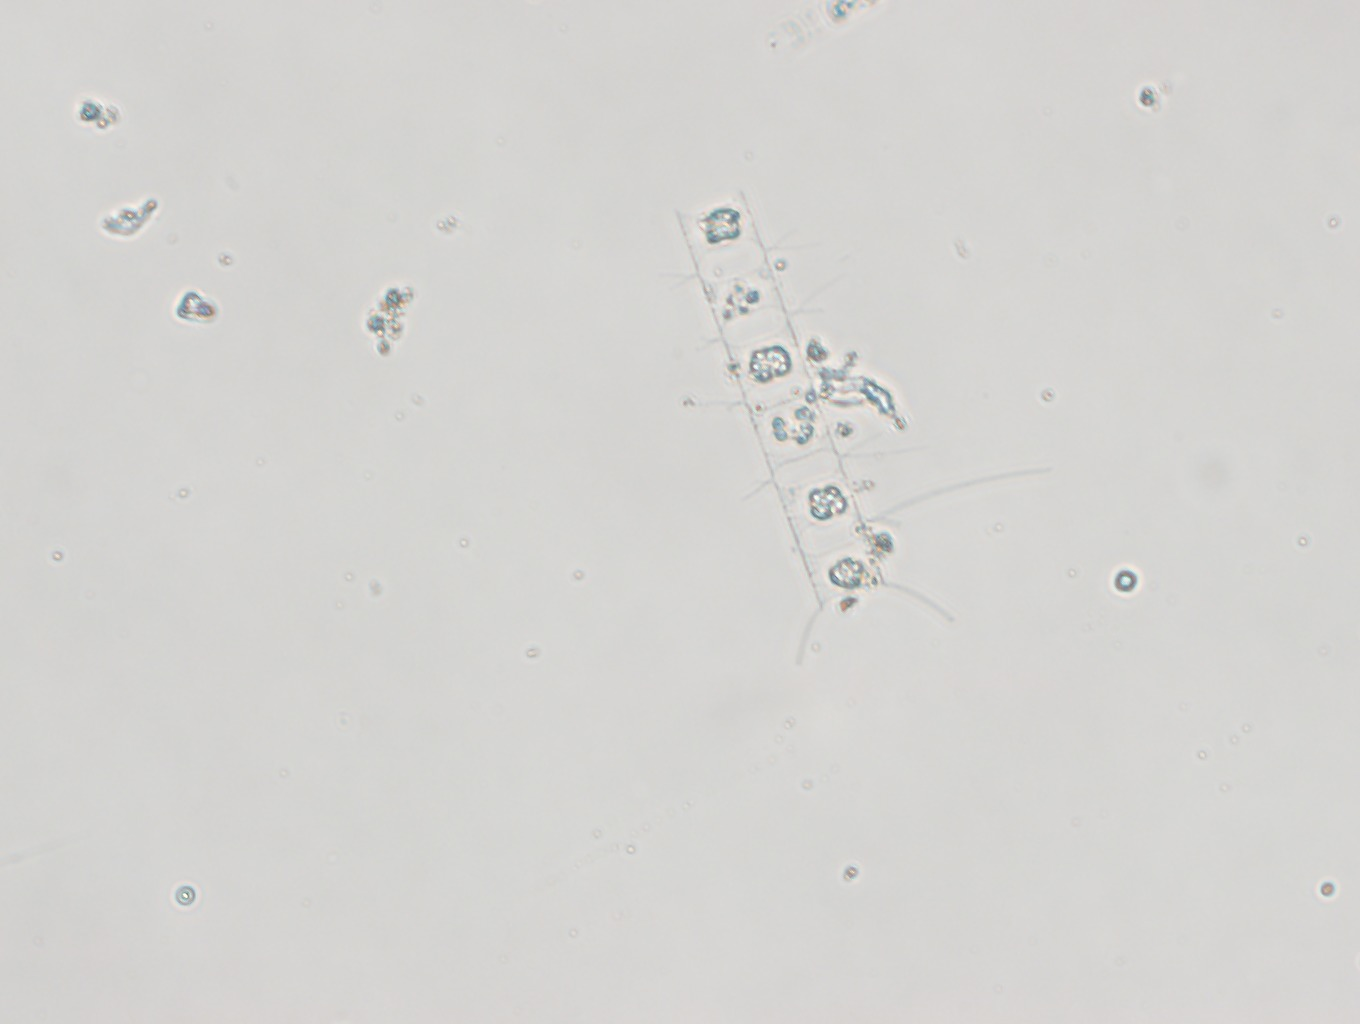chaetoceros: (655, 186, 1056, 667)
